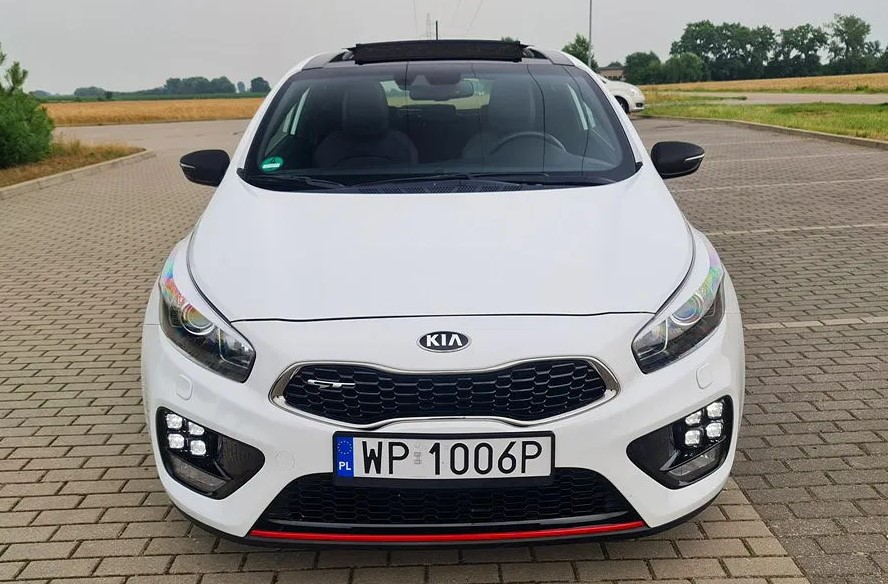number_plate: (319, 428, 561, 488)
